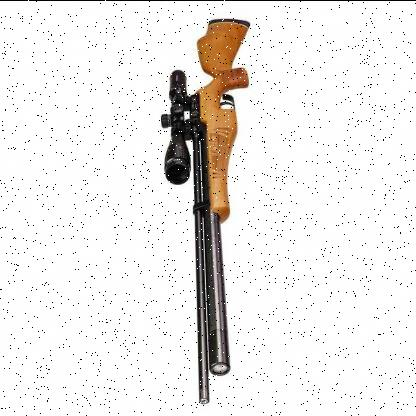rifle: (155, 6, 281, 401)
